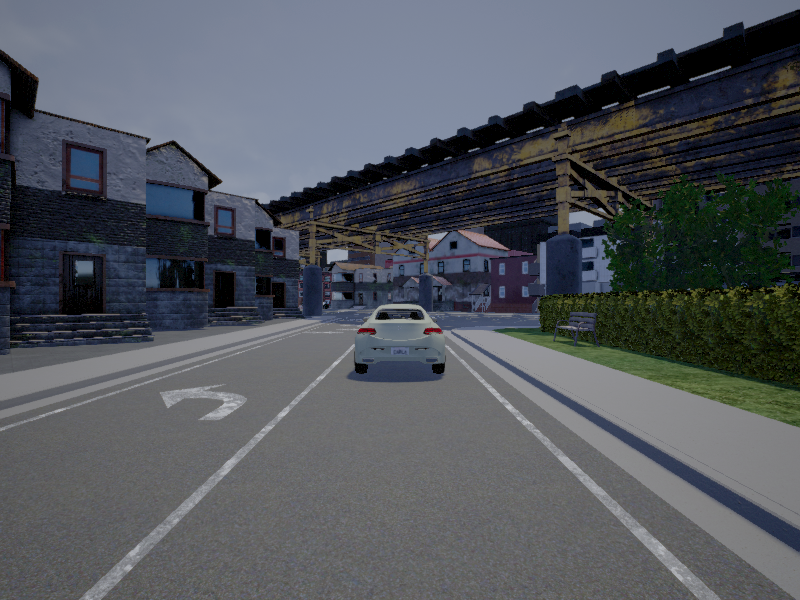Benign: (353, 304, 446, 373)
